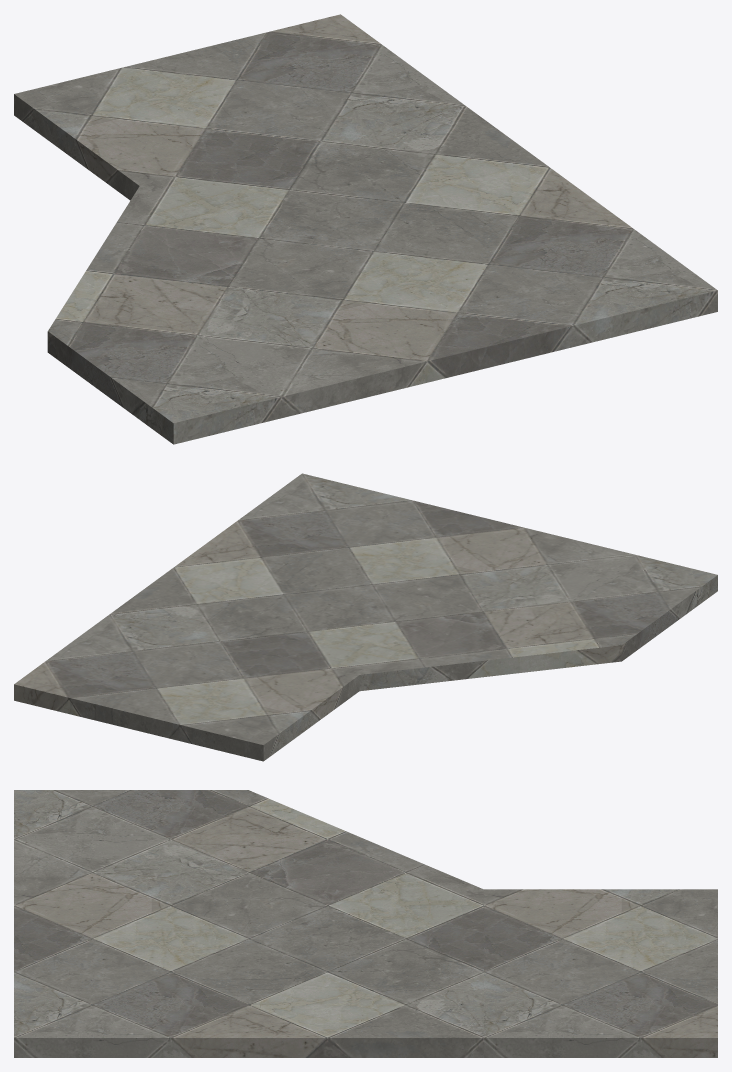
File: bg_lut_lucastle_churchinfloor02_sm_phs.FBX
3 views of the same model, one above another, from view 1: azimuth 30°, elevation 25°; view 2: azimuth 150°, elevation 25°; view 3: azimuth 270°, elevation 25° (orthographic). The views are drawn at different scales.
Visible parts, largest first — view 1: bg_lut_lucastle_churchinfloor02_sm_phs; view 2: bg_lut_lucastle_churchinfloor02_sm_phs; view 3: bg_lut_lucastle_churchinfloor02_sm_phs.
Part boxes in pixels (bbox=[...]): bg_lut_lucastle_churchinfloor02_sm_phs: bbox=[14, 14, 717, 444]; bg_lut_lucastle_churchinfloor02_sm_phs: bbox=[14, 473, 717, 761]; bg_lut_lucastle_churchinfloor02_sm_phs: bbox=[14, 790, 717, 1057].
Bounding box in the file's own units: 1280 × 48 × 1536.
